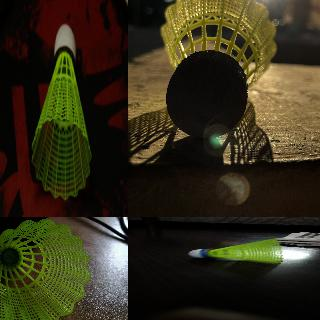shuttlecock: (159, 0, 277, 137), (31, 22, 91, 200), (0, 218, 90, 319), (187, 238, 282, 264)
